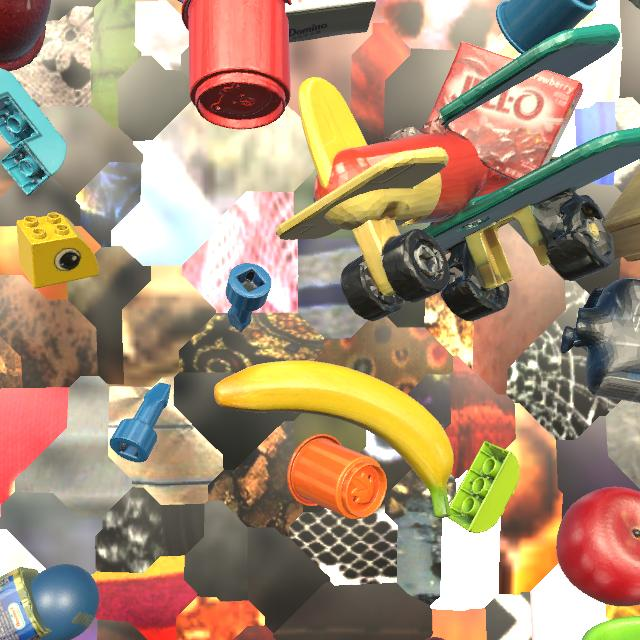ycb_004_sugar_box: (285, 0, 376, 43)
ycb_009_gelatin_box: (427, 41, 584, 181)
ycb_010_potted_meat_can: (0, 567, 51, 640)
ycb_011_banana: (214, 360, 454, 518)
ycb_013_apple: (556, 487, 640, 607)
